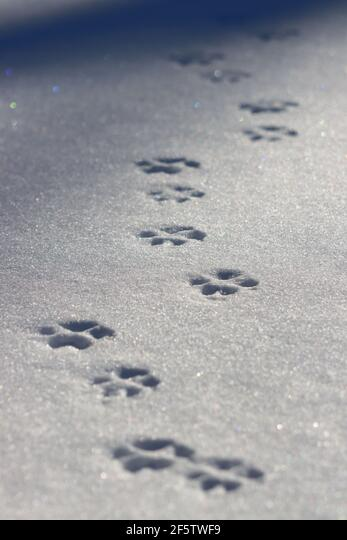fox: (114, 428, 189, 475), (35, 316, 116, 355), (97, 365, 159, 401)
